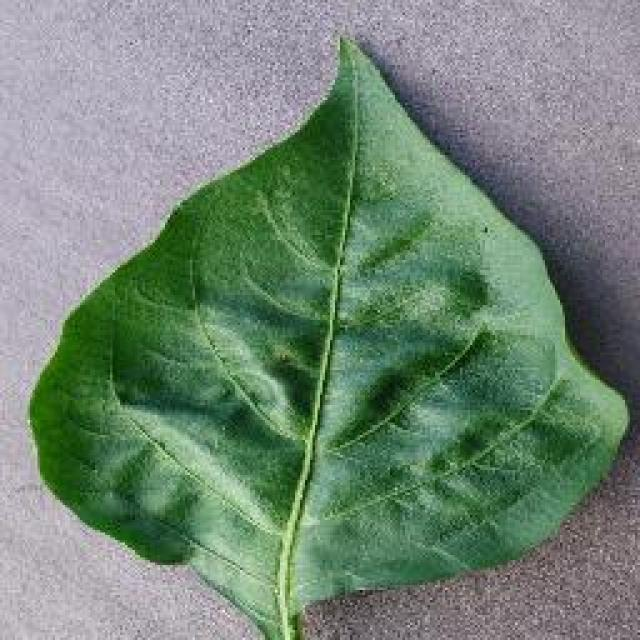Chilli_Healthy: (25, 32, 633, 638)
